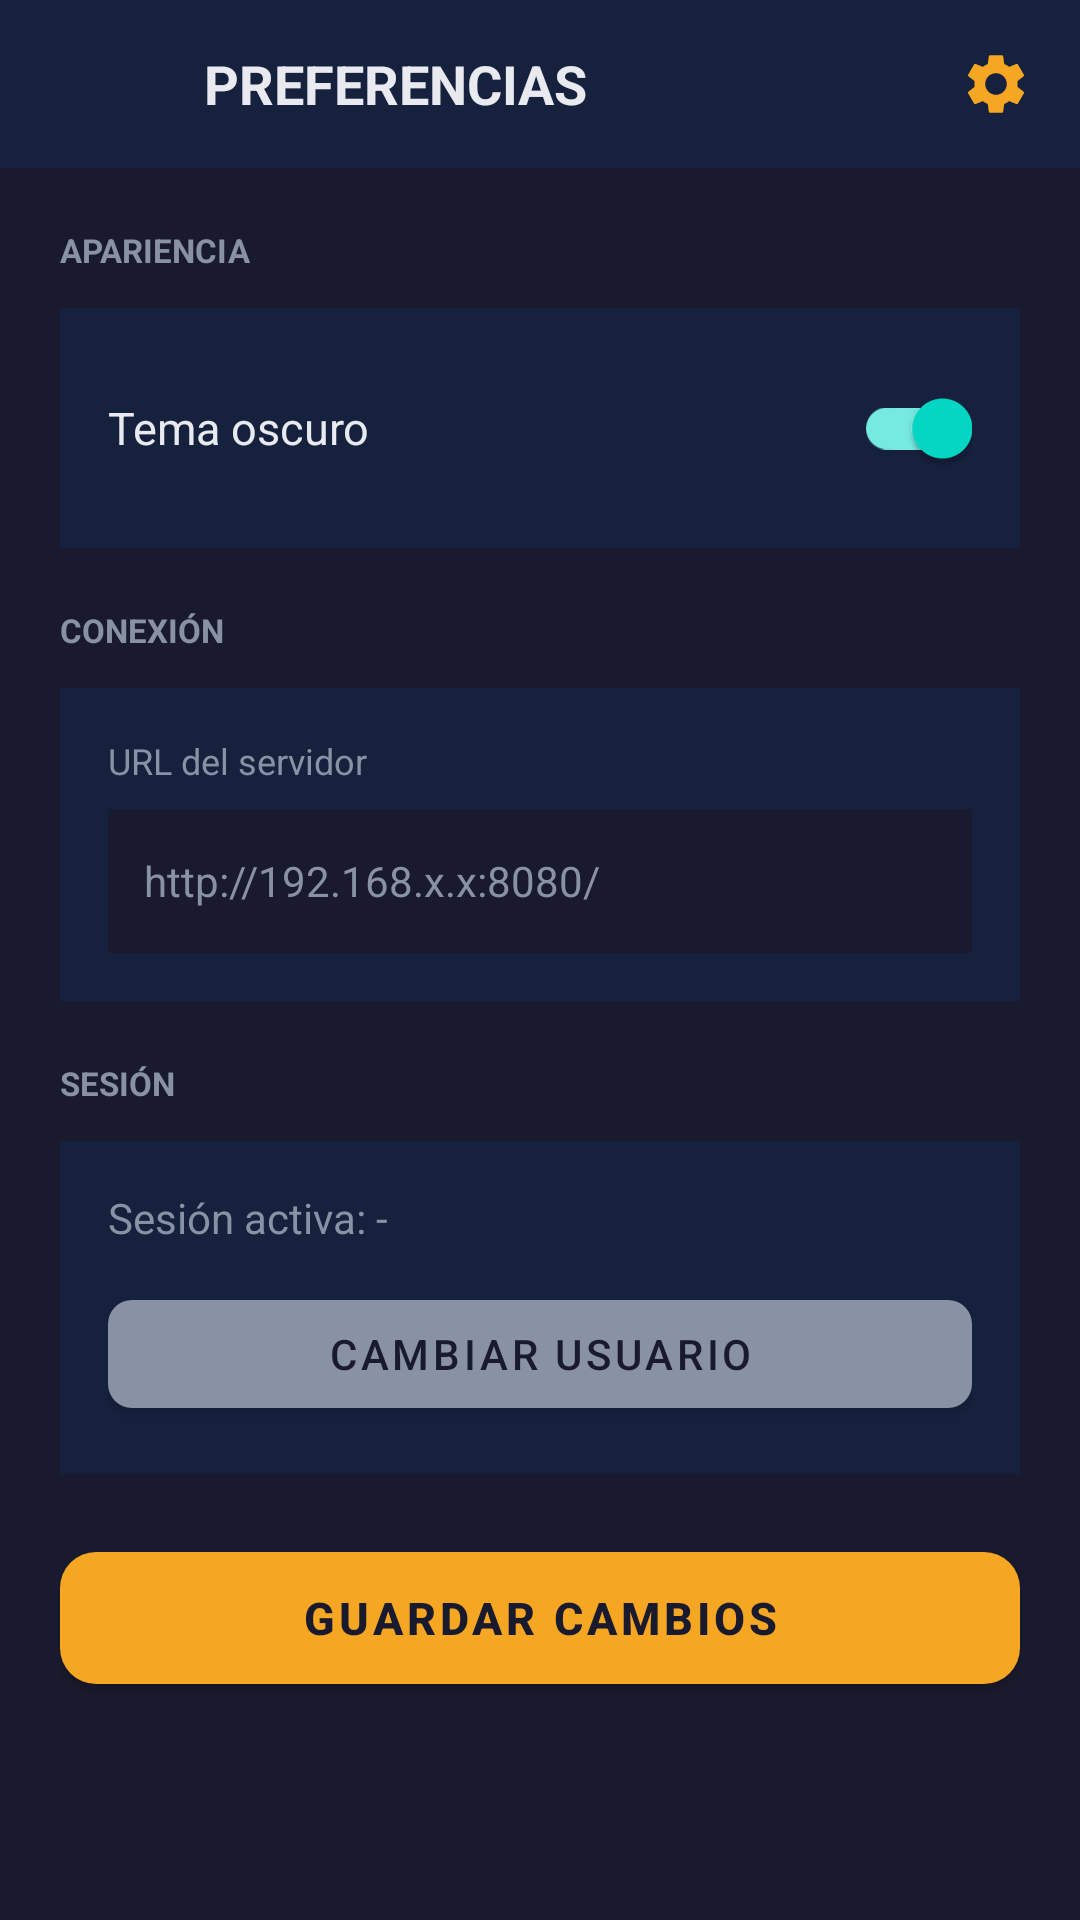

Where icons sit on this 1080*1920 app screen, as (x1, y1, x2, y2):
settings: (968, 55, 1024, 113)
